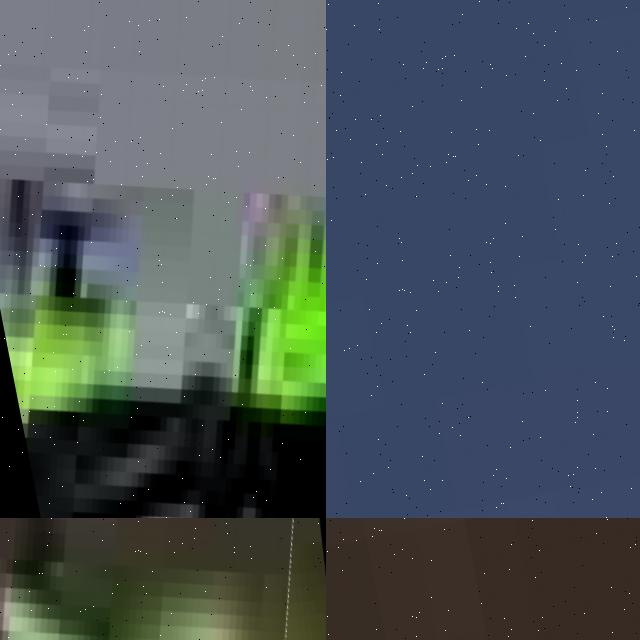drone: (0, 0, 326, 518), (0, 518, 326, 640)
